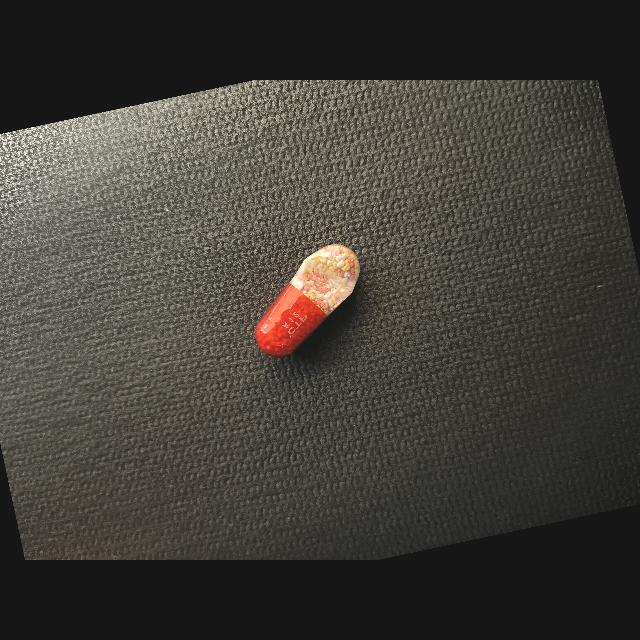Defective Capsule: (255, 244, 360, 356)
